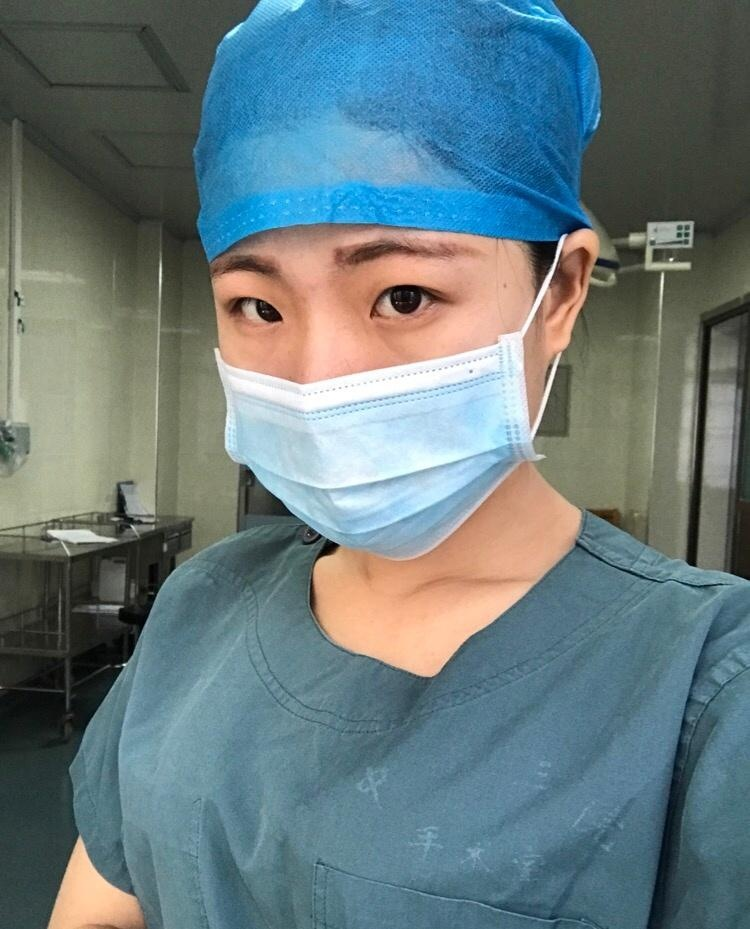Mask: (202, 205, 565, 569)
